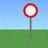sign: (23, 3, 38, 38)
